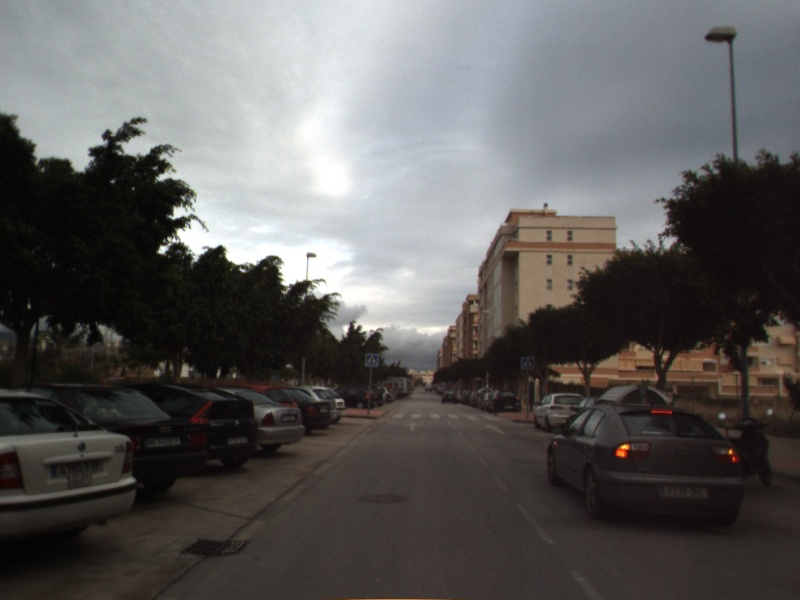STRAIGHT: (483, 422, 507, 436), (403, 420, 423, 433)
